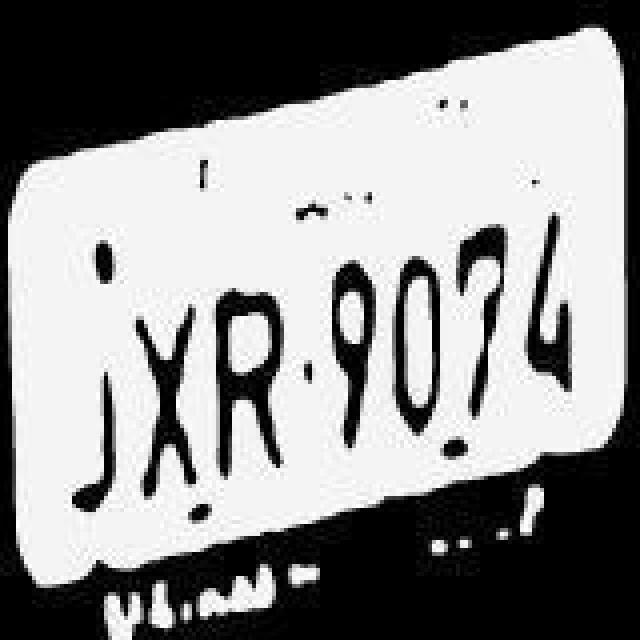4: (514, 192, 582, 440)
7: (448, 196, 512, 436)
9: (314, 266, 382, 494)
J: (54, 308, 122, 516)
O: (384, 236, 448, 468)
R: (206, 276, 290, 508)
X: (126, 276, 202, 500)
